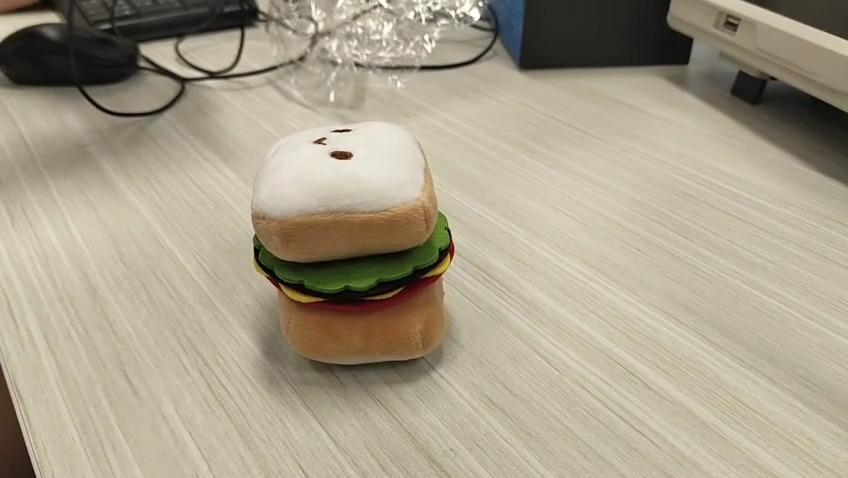objects: (250, 118, 456, 365)
